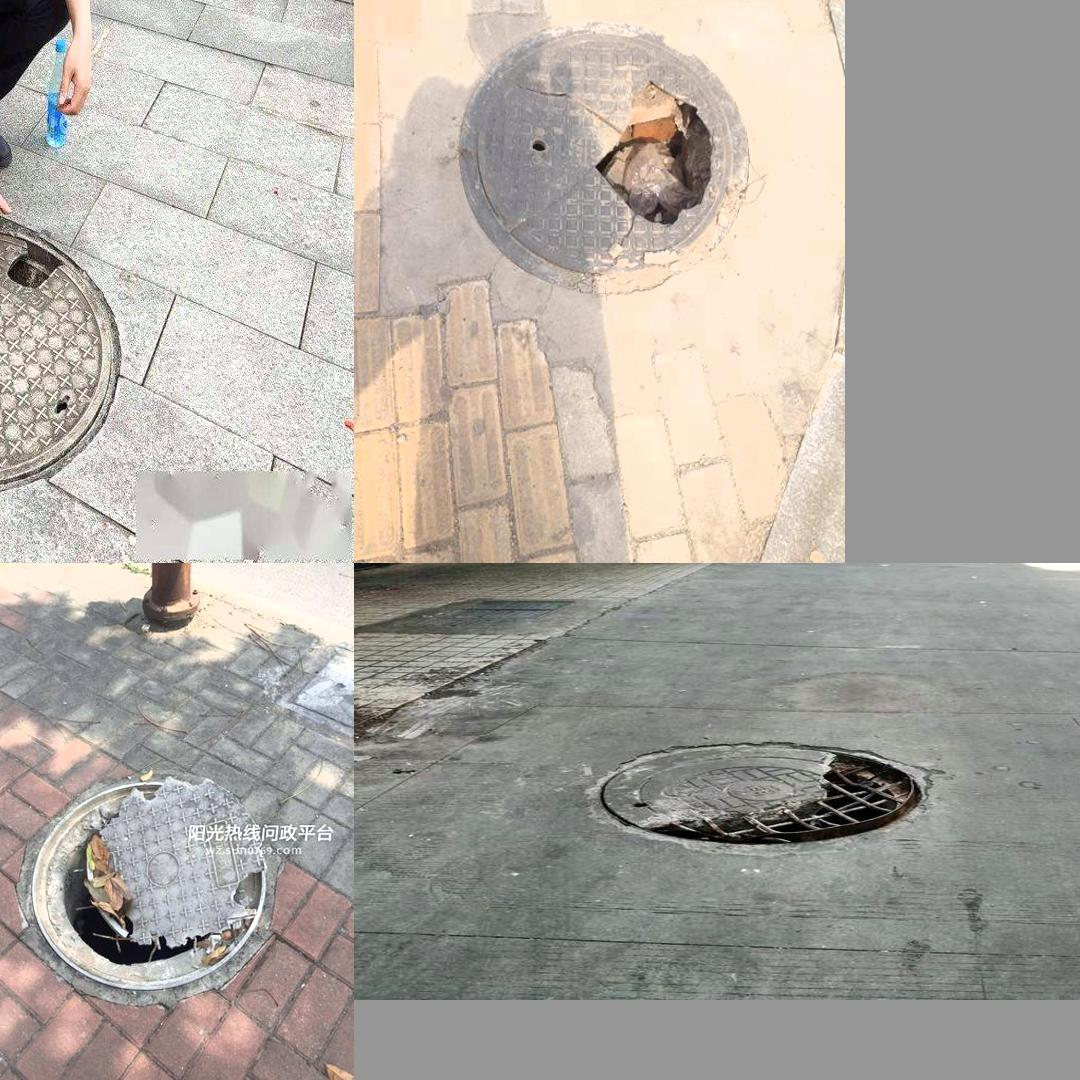broke: (445, 6, 766, 311), (536, 718, 986, 876), (7, 766, 295, 1007), (0, 213, 126, 486)
